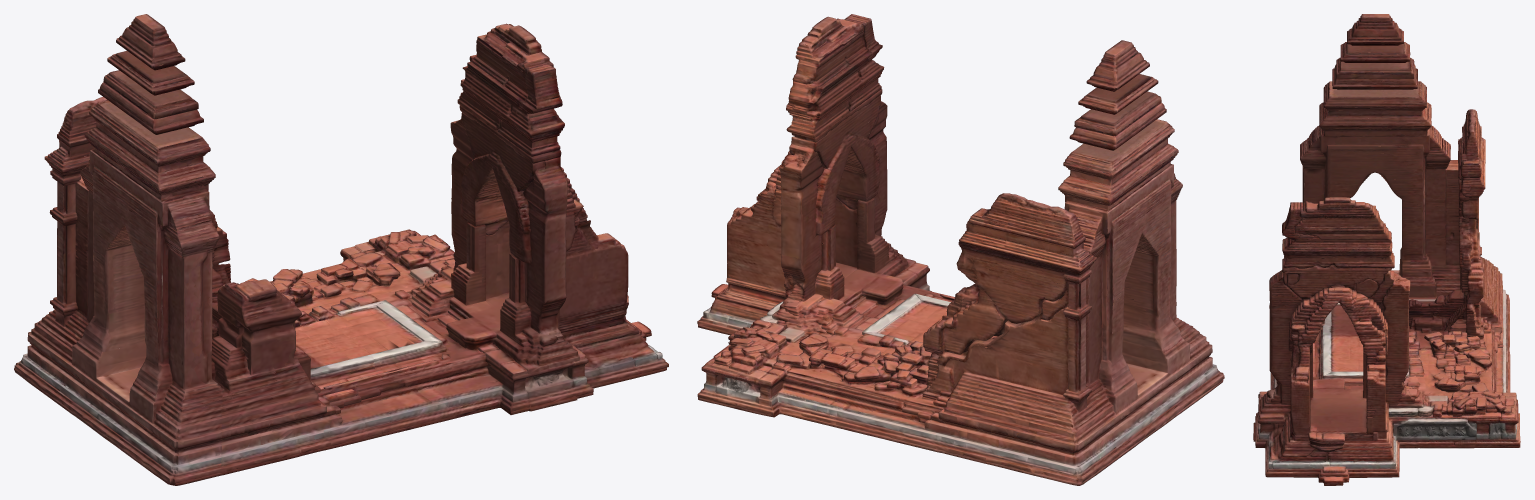
Rendered from situs_ks.glb.
3 renders of one model, left to right at view 1: azimuth 30°, elevation 25°; view 2: azimuth 150°, elevation 25°; view 3: azimuth 270°, elevation 25°, orthographic. The views are drawn at different scales.
Visible parts, largest first — view 1: tripo_node_cb402ac9-8cc1-412f-ba6e-b0dd128a3672; view 2: tripo_node_cb402ac9-8cc1-412f-ba6e-b0dd128a3672; view 3: tripo_node_cb402ac9-8cc1-412f-ba6e-b0dd128a3672.
Part boxes in pixels (x1,y1,x2,y2): tripo_node_cb402ac9-8cc1-412f-ba6e-b0dd128a3672: (14,14,668,485); tripo_node_cb402ac9-8cc1-412f-ba6e-b0dd128a3672: (697,14,1224,485); tripo_node_cb402ac9-8cc1-412f-ba6e-b0dd128a3672: (1253,14,1520,485).
Size of the model in its own units: 0.9685 by 0.7215 by 0.5819.
1 material, 1 textured.
